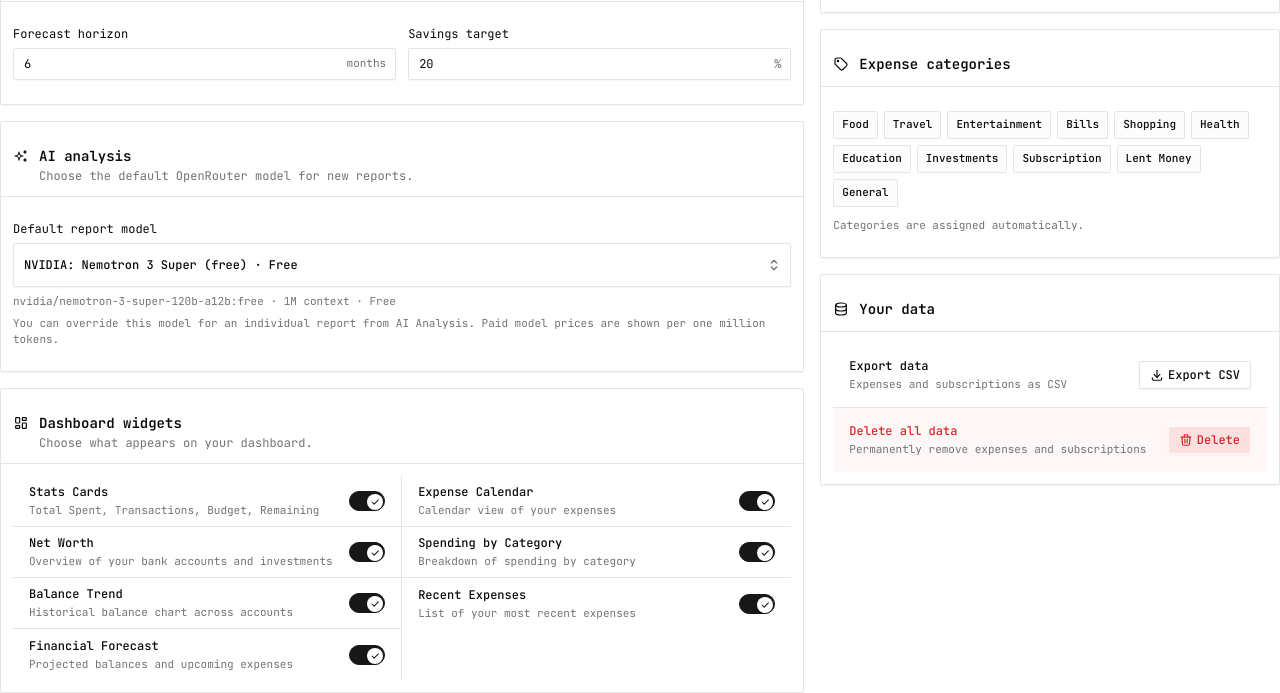
Test case: SettingsForm › keeps destructive deletion behind a confirmation dialog
(page scrolled)
Step 1. Click the button "Delete" → {"x": 1209, "y": 440}, box top-left (1168, 426), bottom-right (1251, 454)
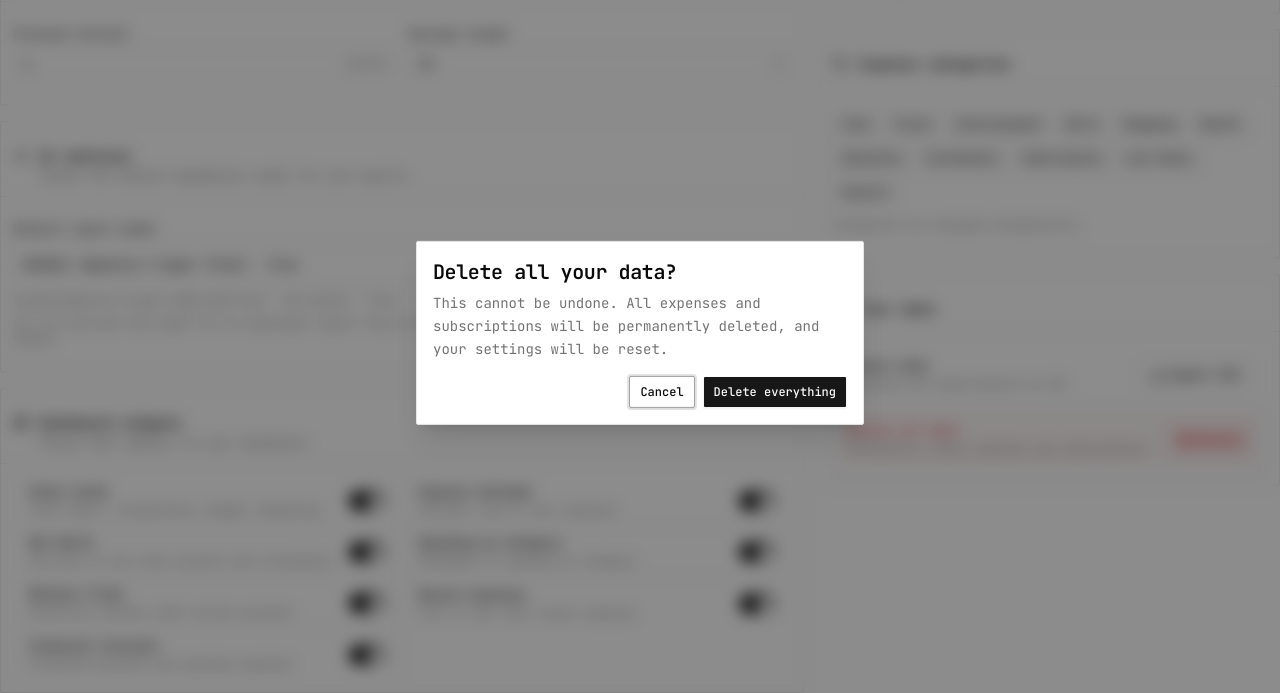
Result: the heading "Delete all your data?" is shown at top-left (433, 258), bottom-right (677, 286)
